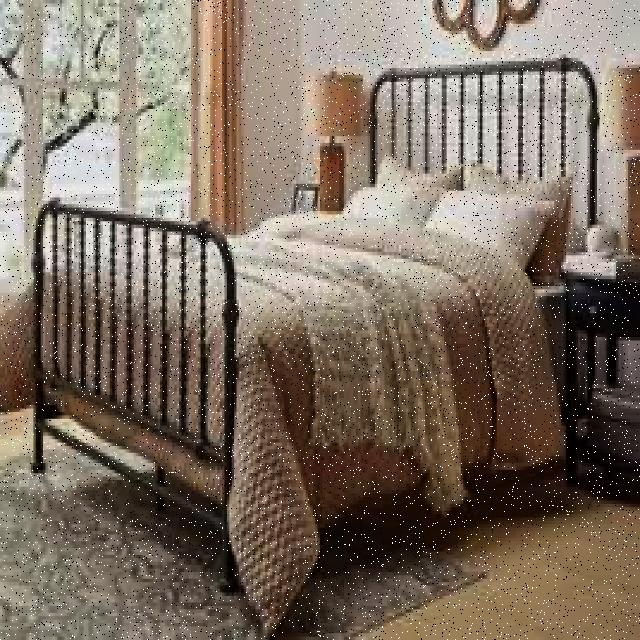bed: (39, 140, 585, 438)
